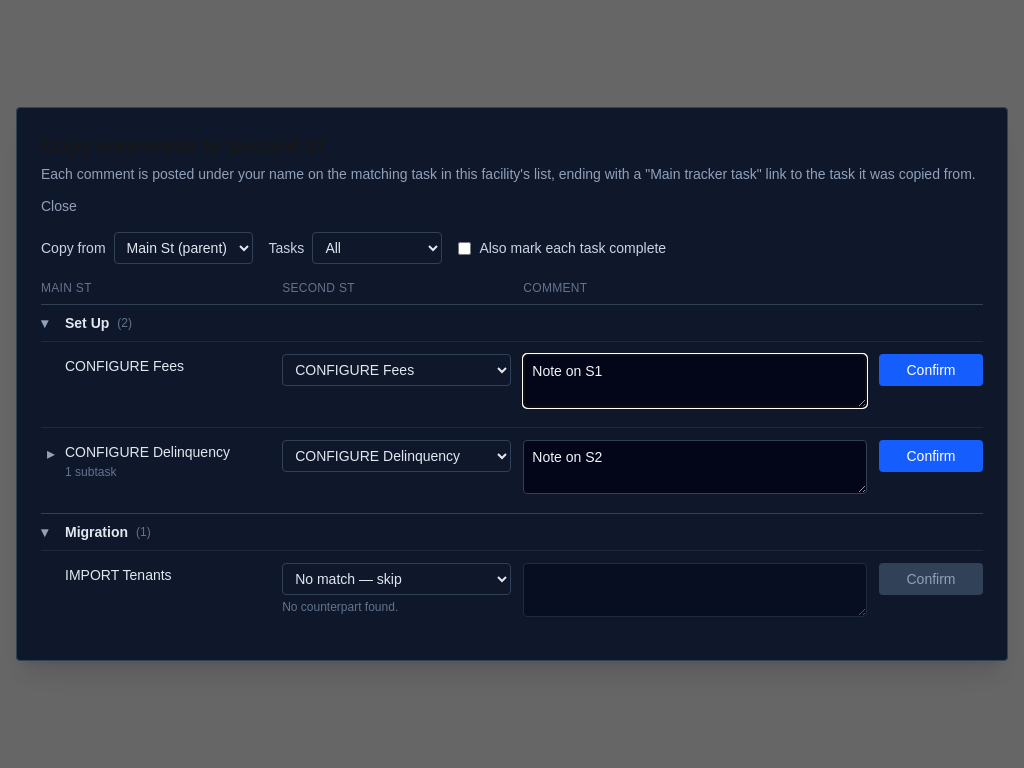
Test: CopyCommentsDialog › reveals the subtasks, and reads their comments, when a task is expanded
Click the button named "Expand CONFIGURE Delinquency": (51, 454) x1=41 y1=442 x2=61 y2=466
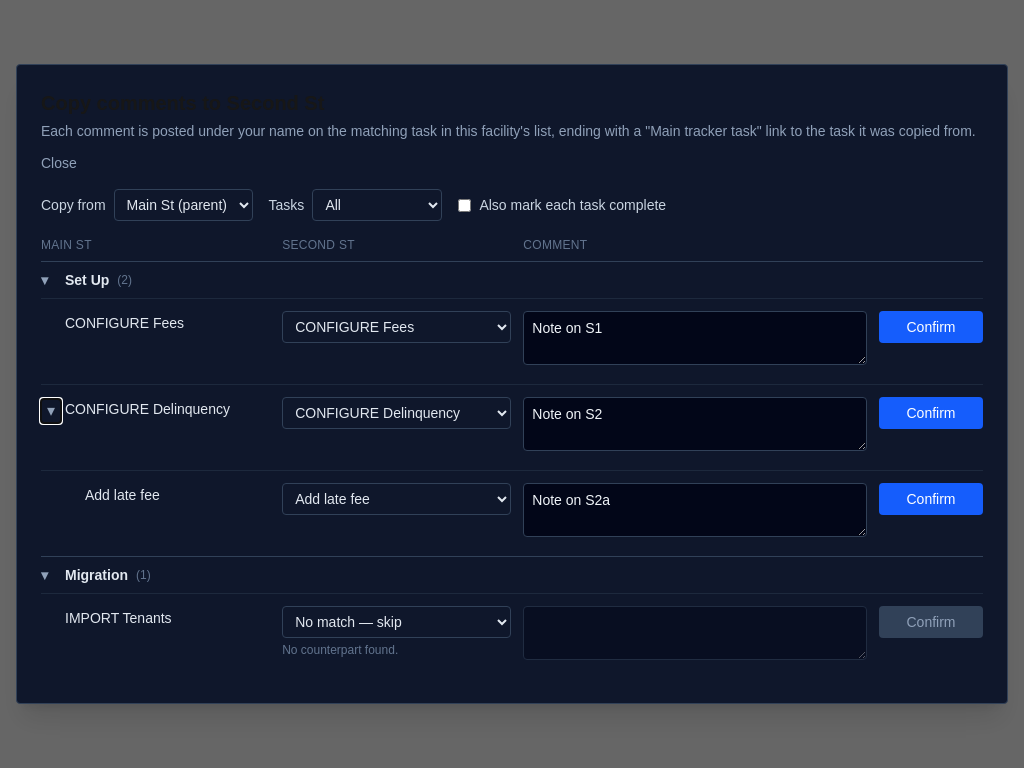
Expected: the link "Add late fee" is shown, x1=85 y1=487 x2=160 y2=503
